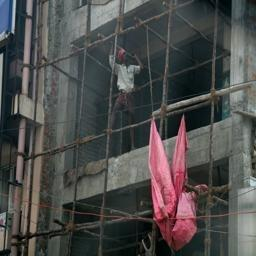hat: (114, 45, 137, 70)
no vest: (104, 60, 146, 98)
